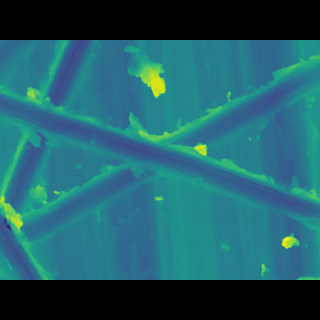Loch: (0, 82, 320, 224), (0, 106, 320, 216), (0, 69, 99, 202)
